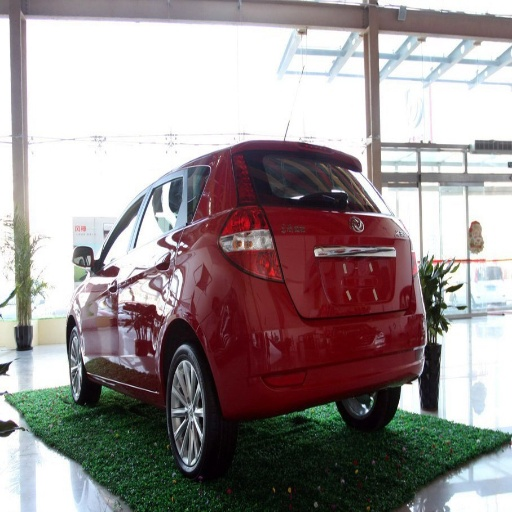back_bumper: (214, 269, 427, 414)
back_glass: (247, 150, 375, 209)
back_left_door: (118, 204, 170, 354)
tailgate: (261, 202, 395, 316)
trunk: (376, 214, 414, 314), (270, 204, 338, 235)
